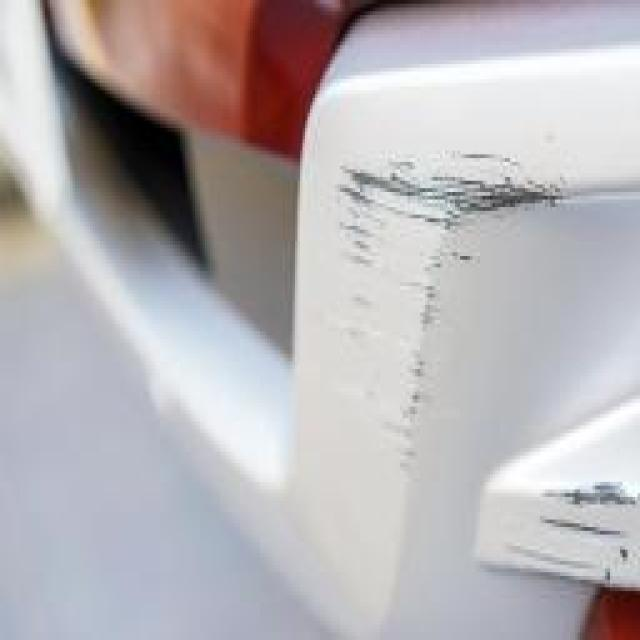Bumper: (322, 98, 640, 640)
